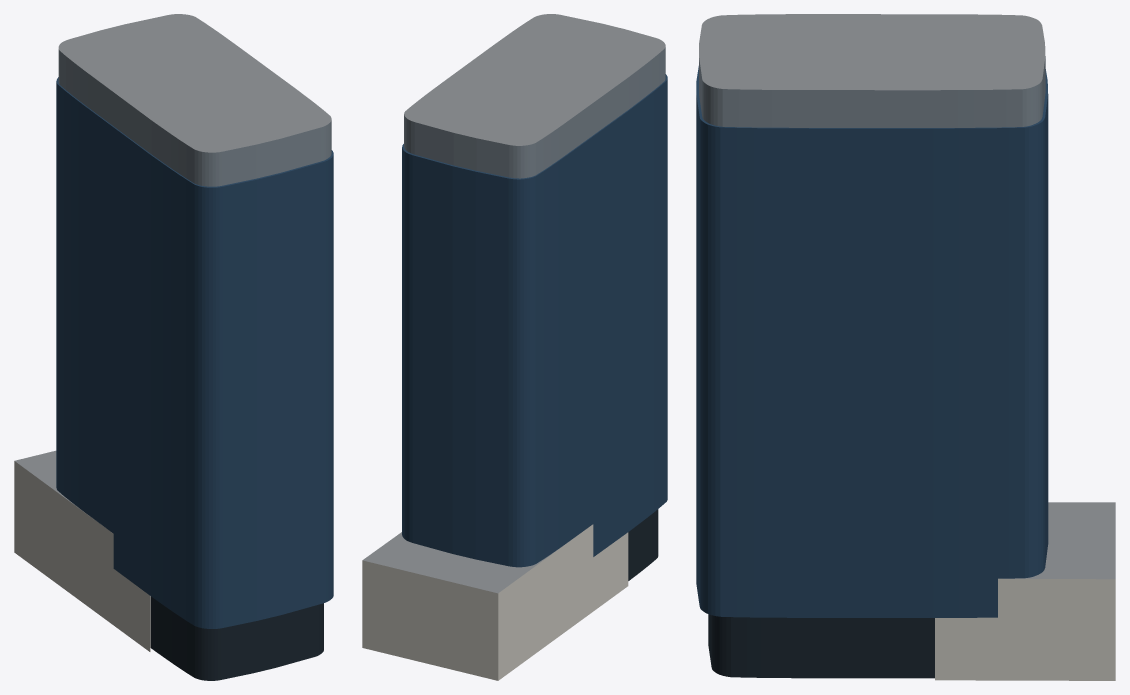
Rendered from 95_state_at_city_creek.glb.
3 renders of one model, left to right at view 1: azimuth 30°, elevation 25°; view 2: azimuth 150°, elevation 25°; view 3: azimuth 270°, elevation 25°, orthographic. The views are drawn at different scales.
Visible parts, largest first — view 1: 95_State_At_City_Creek; view 2: 95_State_At_City_Creek; view 3: 95_State_At_City_Creek.
Boxes of the visible parts, box(x1,y1,x2,y2) form: 95_State_At_City_Creek: box(14, 14, 333, 680); 95_State_At_City_Creek: box(362, 14, 667, 680); 95_State_At_City_Creek: box(696, 14, 1115, 680).
Bounding box in the file's own units: 34.24 × 122 × 78.44.
